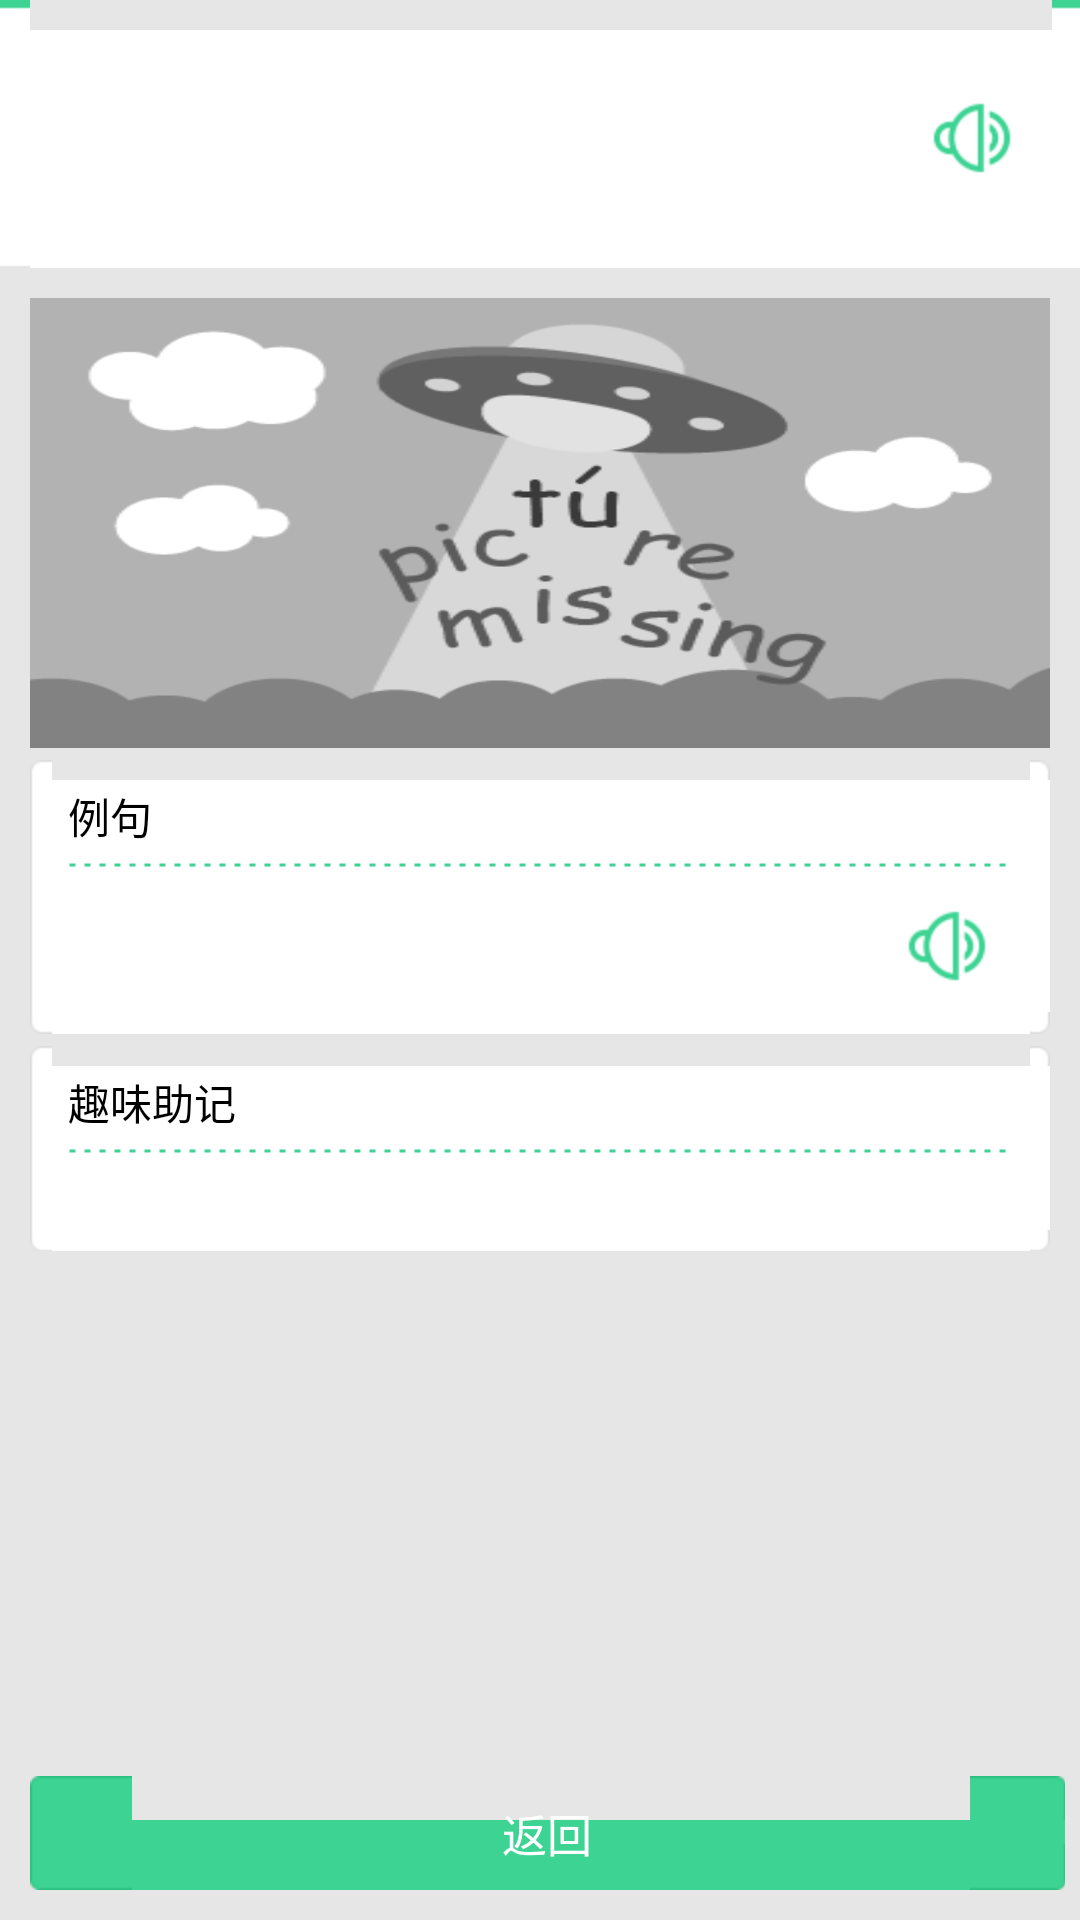

Named icons in this screenshot (1080*1920) and their centers, (x=x, y=y):
page lock screen speak: (x=972, y=138), (x=947, y=946)
